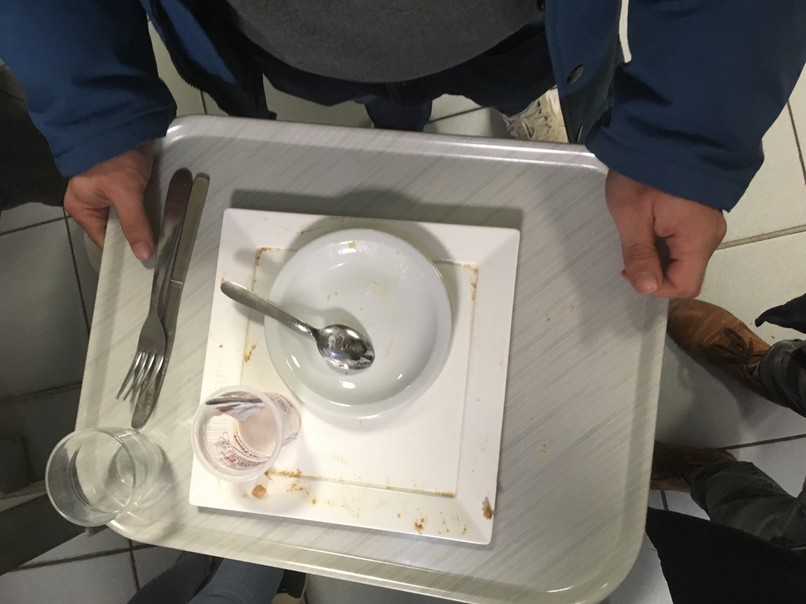cup: (36, 431, 170, 537)
cutlery: (114, 165, 221, 431), (218, 274, 382, 374)
trash: (192, 386, 300, 482)
